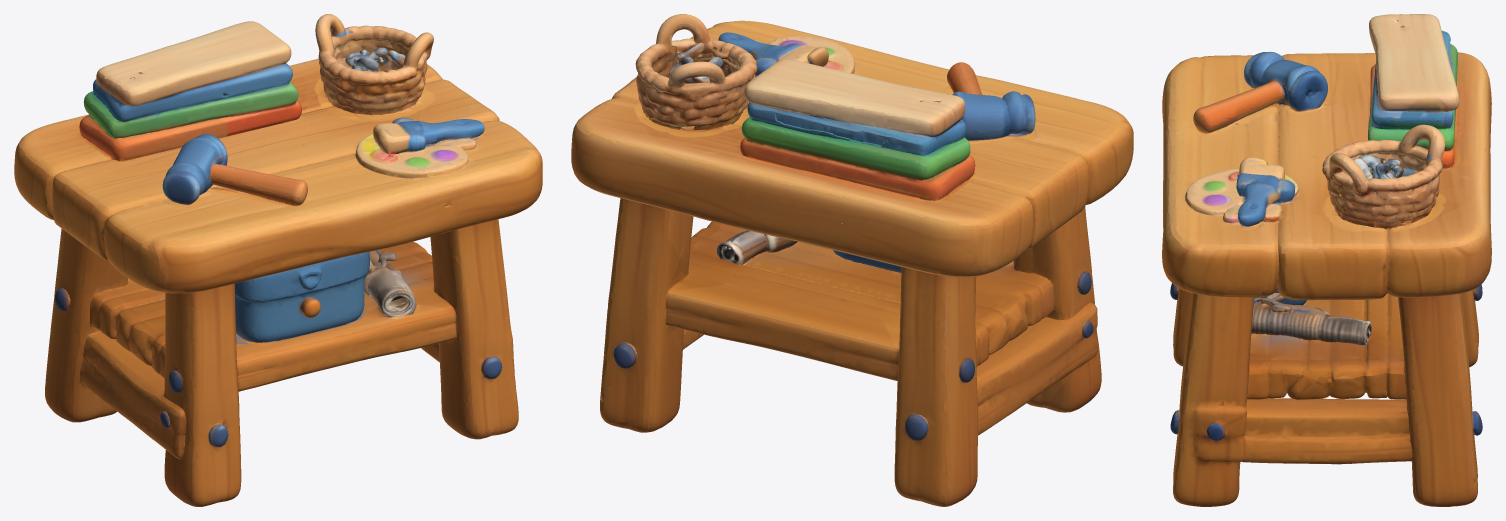
Rendered from prp_workbench_01.glb.
The picture shows the model from 3 angles, left to right: view 1: azimuth 30°, elevation 25°; view 2: azimuth 150°, elevation 25°; view 3: azimuth 270°, elevation 25°; orthographic projection. The views are drawn at different scales.
Parts seen in each view (by area): view 1: geometry_0; view 2: geometry_0; view 3: geometry_0.
Part boxes in pixels (box(x1,y1,x2,y2)): geometry_0: box(14, 14, 542, 506); geometry_0: box(571, 14, 1133, 506); geometry_0: box(1162, 14, 1491, 506).
Size of the model in its own units: 0.6 by 0.4931 by 0.4175.
1 material, 1 textured.
